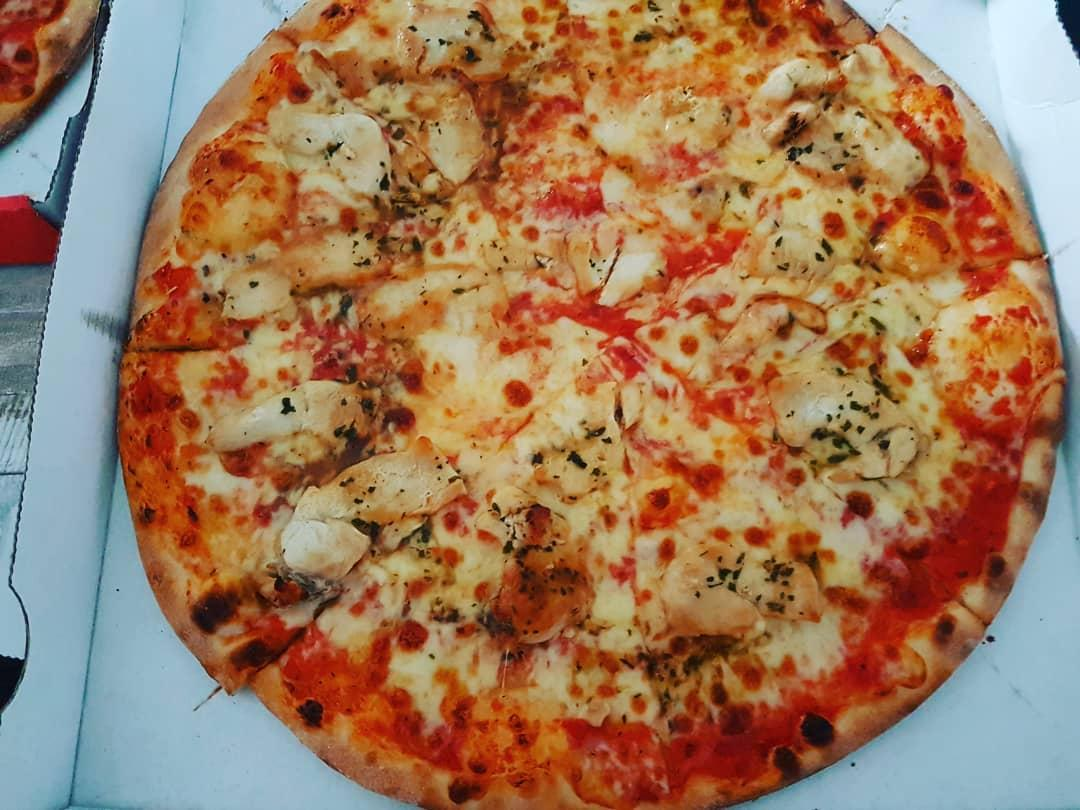Cheese: (358, 3, 596, 175), (289, 212, 419, 370), (698, 463, 910, 549), (426, 212, 512, 410), (580, 528, 667, 706), (735, 276, 959, 344), (412, 518, 499, 692), (472, 446, 645, 525), (583, 75, 735, 163), (740, 129, 917, 204), (653, 315, 751, 446), (528, 323, 643, 433), (529, 220, 660, 293)
Chicken: (282, 448, 453, 571), (780, 365, 917, 480), (673, 551, 815, 634), (212, 383, 376, 446), (292, 108, 395, 193), (756, 58, 837, 143), (749, 217, 829, 282), (223, 265, 289, 318)
Pizza: (116, 0, 1065, 810)
